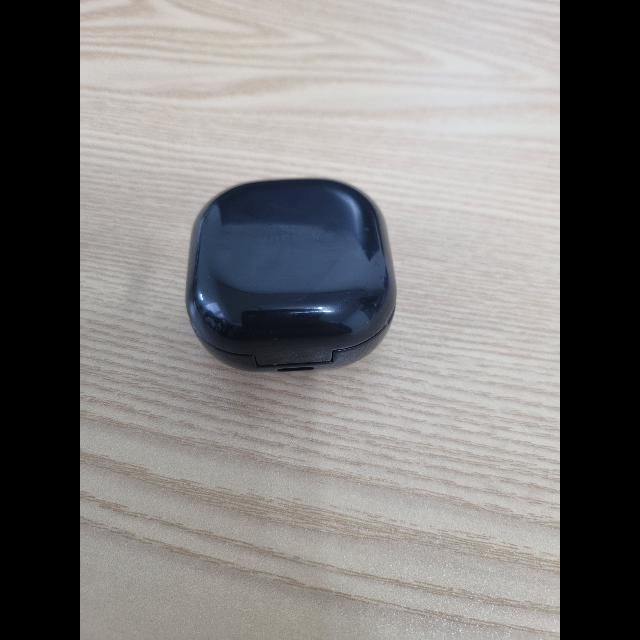buds_live: (182, 177, 402, 377)
